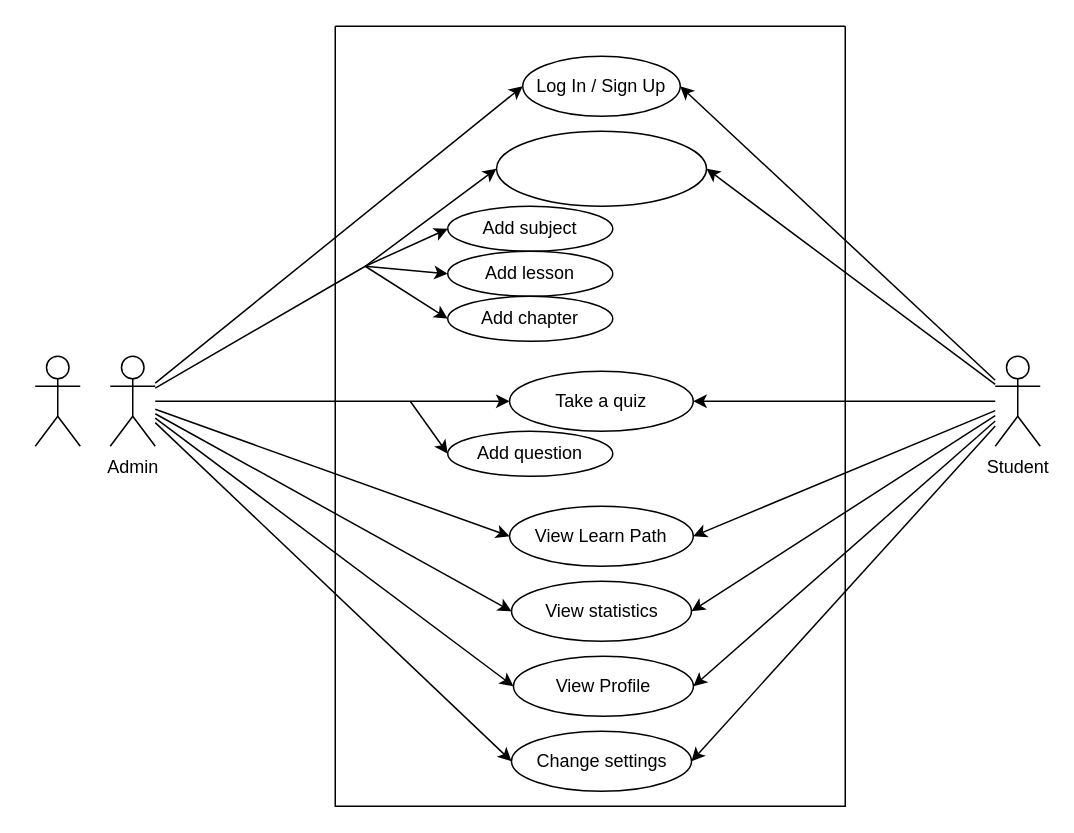
Some shapes in this 1074 by 833 pixel diagram are drawn without their labels. Here are the shapes that lost their labels. From the top down, the centre of each, then its label:
the point at 600,168: Read Learn materials
the point at 57,400: Teacher
